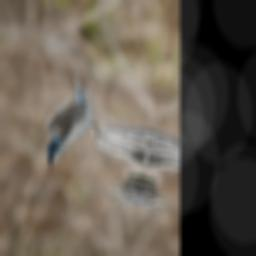Swallow: (36, 56, 115, 179)
